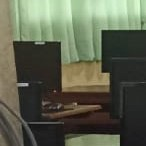monitor: (15, 40, 60, 95), (110, 58, 146, 120), (100, 30, 146, 75)
